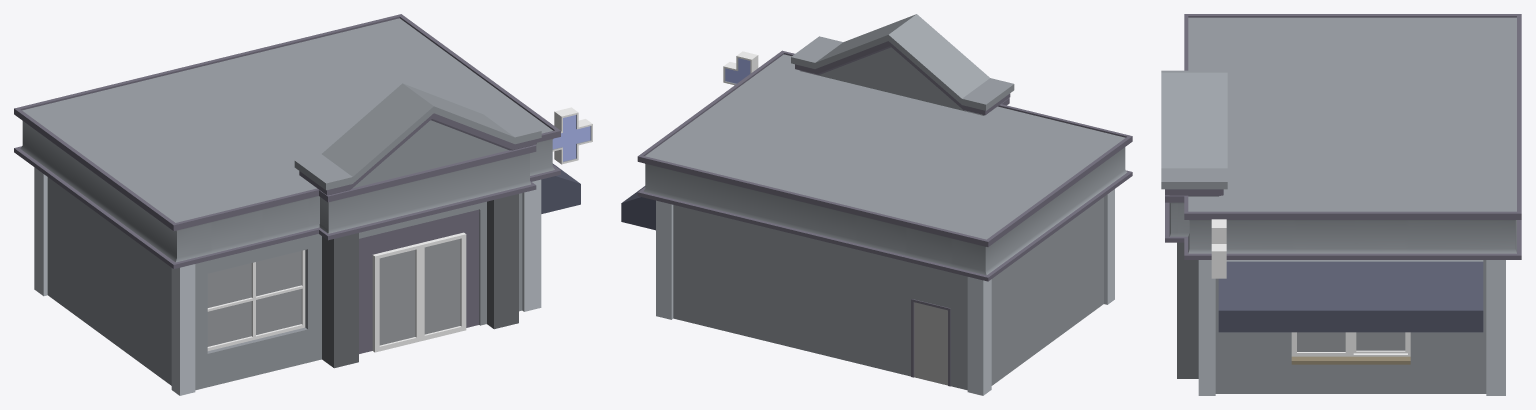
Rendered from pharmacy.glb.
The picture shows the model from 3 angles, left to right: view 1: azimuth 30°, elevation 25°; view 2: azimuth 150°, elevation 25°; view 3: azimuth 270°, elevation 25°; orthographic projection. The views are drawn at different scales.
Parts seen in each view (by area): view 1: Pharmacy_Fixed:Pharmacy_Comb_UV; view 2: Pharmacy_Fixed:Pharmacy_Comb_UV; view 3: Pharmacy_Fixed:Pharmacy_Comb_UV.
Part boxes in pixels (<box>): Pharmacy_Fixed:Pharmacy_Comb_UV: <box>14,14,592,395</box>; Pharmacy_Fixed:Pharmacy_Comb_UV: <box>621,14,1132,395</box>; Pharmacy_Fixed:Pharmacy_Comb_UV: <box>1161,14,1521,395</box>.
Bounding box in the file's own units: 0.1182 × 0.064 × 0.0808.
